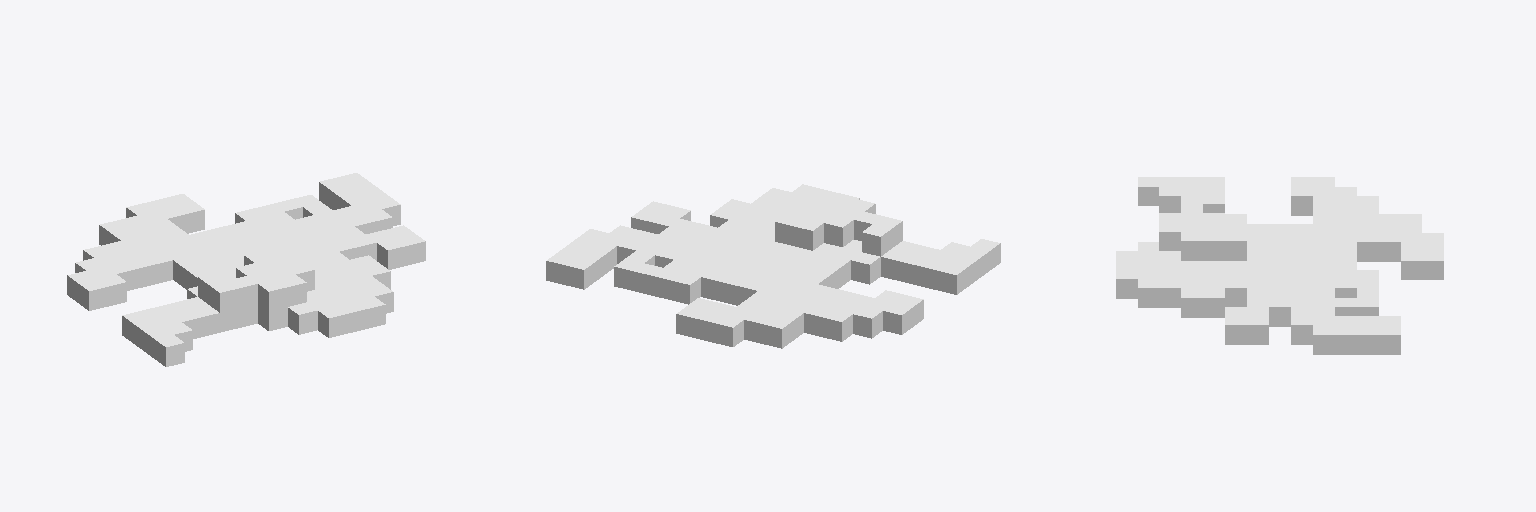
File: Trash_clothes_pile.obj
The picture shows the model from 3 angles: view 1: azimuth 30°, elevation 25°; view 2: azimuth 150°, elevation 25°; view 3: azimuth 270°, elevation 25°; orthographic projection.
Visible parts, largest first — view 1: Trash_clothes_pile; view 2: Trash_clothes_pile; view 3: Trash_clothes_pile.
Part boxes in pixels (x1,y1,x2,y2): Trash_clothes_pile: (67, 173, 425, 366); Trash_clothes_pile: (546, 184, 1000, 348); Trash_clothes_pile: (1116, 177, 1443, 354).
Bounding box in the file's own units: 17 × 2 × 15.